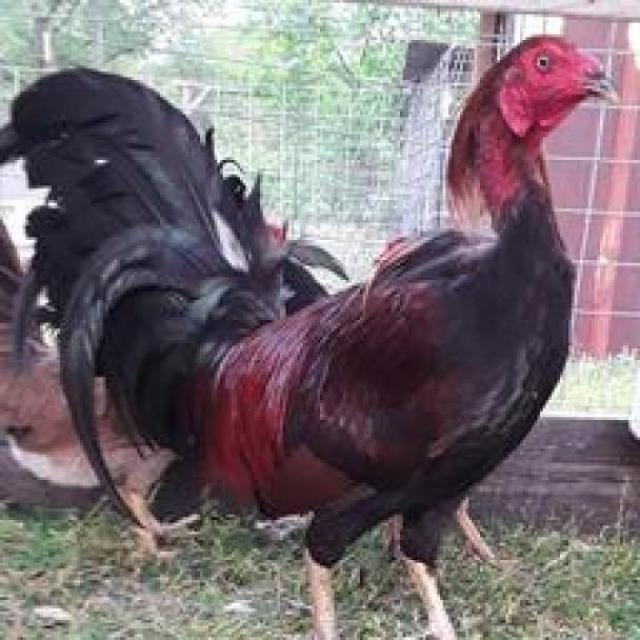Chicken: (7, 37, 639, 640)
